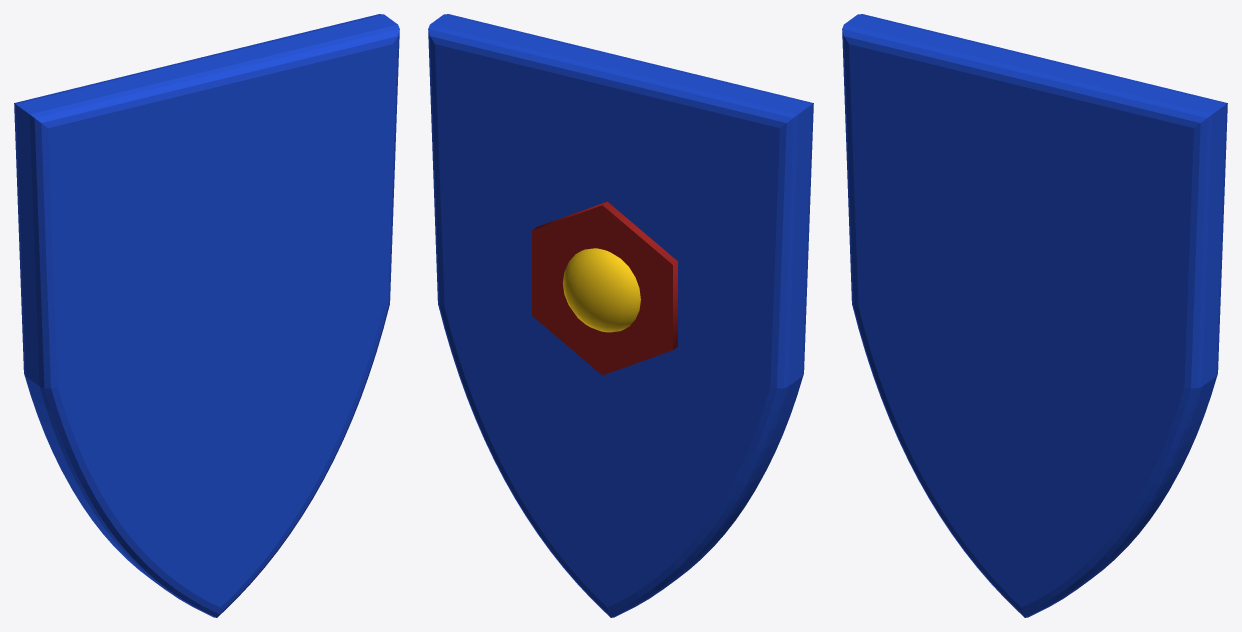
File: imperial_shield.glb
3 renders of one model, left to right at view 1: azimuth 30°, elevation 25°; view 2: azimuth 150°, elevation 25°; view 3: azimuth 330°, elevation 25°, orthographic.
Parts seen in each view (by area): view 1: shield_face; view 2: shield_face, shield_inlay, shield_boss; view 3: shield_face.
Part boxes in pixels (x1,y1,x2,y2): shield_face: (14, 14, 399, 617); shield_face: (428, 14, 813, 617); shield_inlay: (532, 201, 677, 375); shield_boss: (563, 248, 640, 332); shield_face: (842, 14, 1227, 617).
Size of the model in its own units: 0.3845 by 0.5465 by 0.0793.
